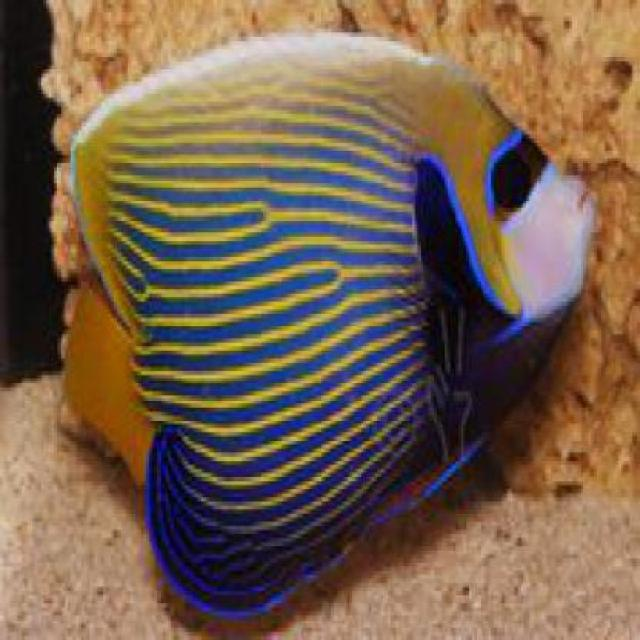AngelFish: (72, 35, 594, 614)
